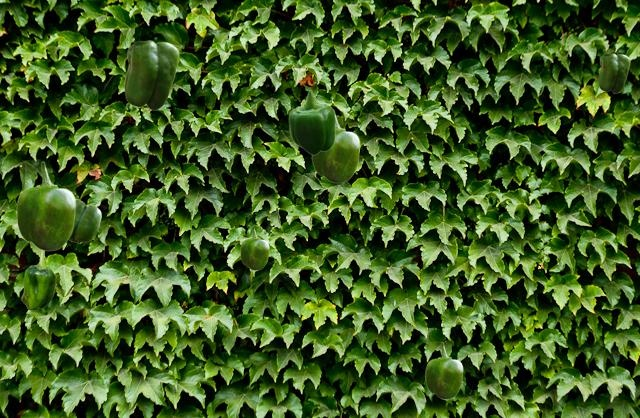bell_pepper: (16, 161, 75, 250), (124, 40, 178, 109), (311, 109, 359, 182), (288, 90, 334, 154), (425, 342, 462, 398), (21, 251, 55, 309), (69, 199, 100, 242), (598, 53, 629, 92), (240, 226, 268, 269)
